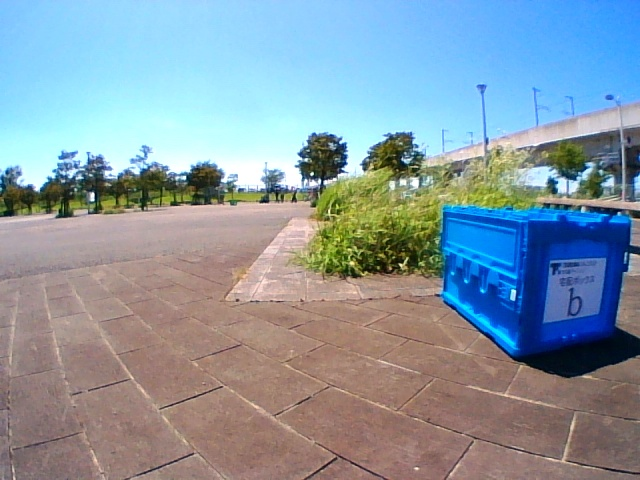blue_box: (445, 209, 616, 331)
tag_b: (553, 266, 595, 316)
